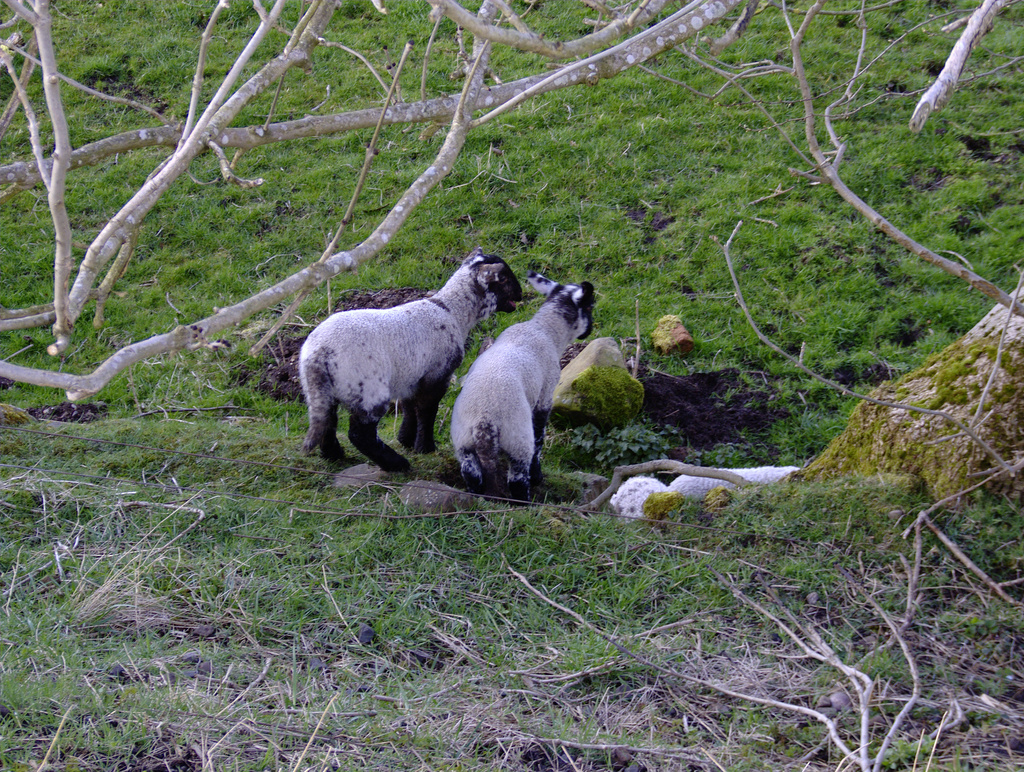sheep: (448, 268, 595, 492)
